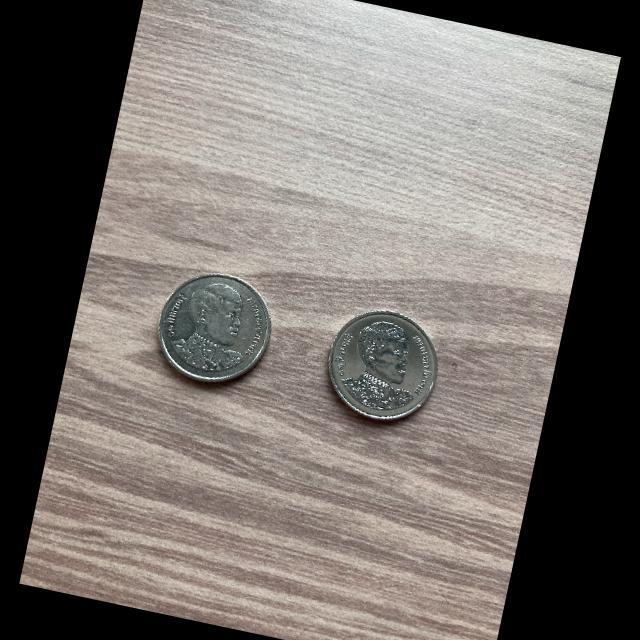1 Bath: (157, 269, 275, 391), (326, 307, 442, 428)
